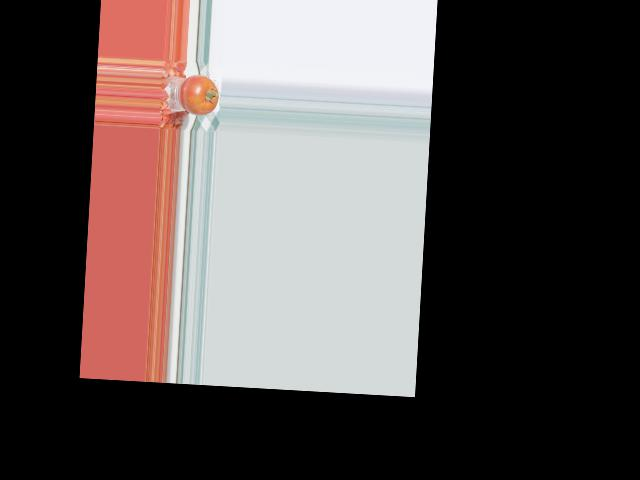tomato: (178, 73, 220, 116)
